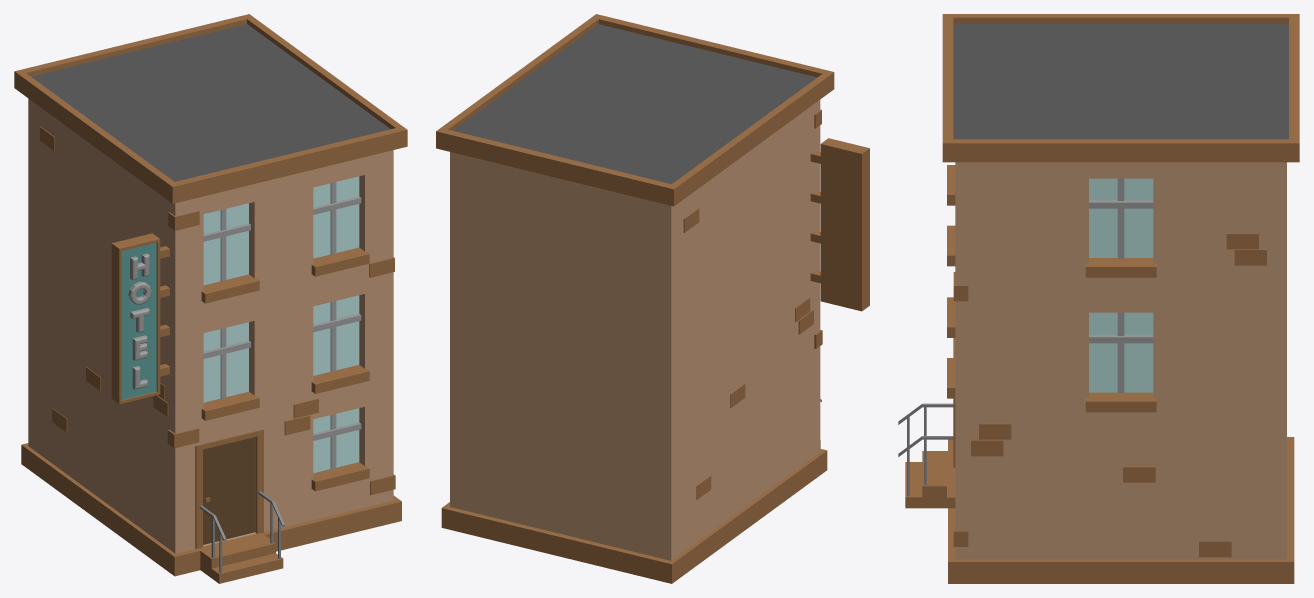
File: Hotel_01.fbx
3 views of the same model, side by side, from view 1: azimuth 30°, elevation 25°; view 2: azimuth 150°, elevation 25°; view 3: azimuth 270°, elevation 25° (orthographic). The views are drawn at different scales.
Parts seen in each view (by area): view 1: Hotel_01; view 2: Hotel_01; view 3: Hotel_01.
Part boxes in pixels (box(x1,y1,x2,y2)): Hotel_01: box(14, 14, 407, 583); Hotel_01: box(436, 14, 869, 583); Hotel_01: box(898, 14, 1299, 583).
Size of the model in its own units: 576 by 773 by 635.
